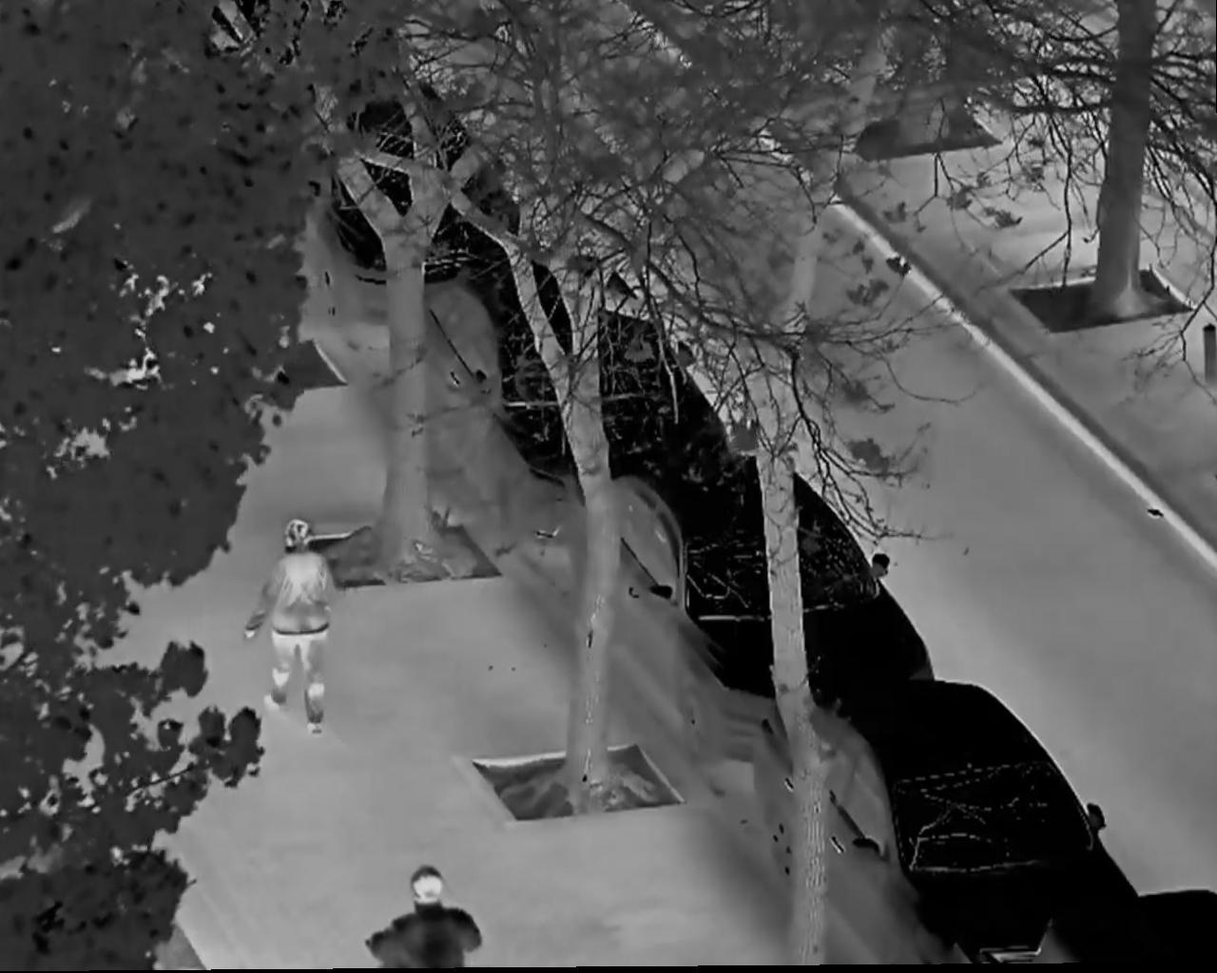person: (241, 520, 343, 741), (357, 868, 482, 973)
